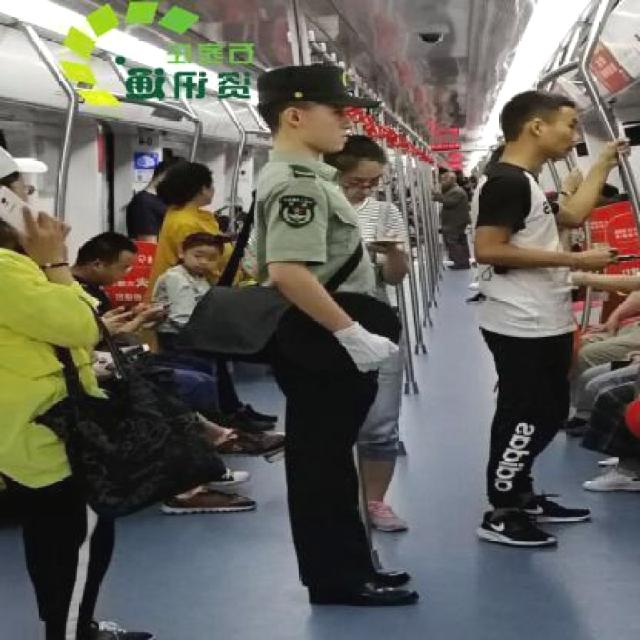face_nomask: (297, 97, 355, 148), (538, 114, 588, 160), (183, 246, 219, 274)
hand_glove: (335, 328, 400, 375)
hand_noglove: (12, 208, 77, 266), (601, 134, 634, 171), (576, 245, 616, 272), (366, 232, 406, 257), (135, 302, 171, 328), (588, 318, 622, 342), (105, 308, 132, 335)
head_nohelmet: (248, 63, 348, 114), (334, 126, 394, 172), (504, 78, 576, 111), (170, 157, 213, 186), (102, 234, 143, 260), (183, 232, 228, 252)
person: (225, 70, 408, 616), (456, 61, 596, 557)
shoes: (304, 565, 418, 612), (474, 506, 557, 554), (158, 483, 258, 522), (510, 488, 592, 528), (362, 496, 410, 536)
